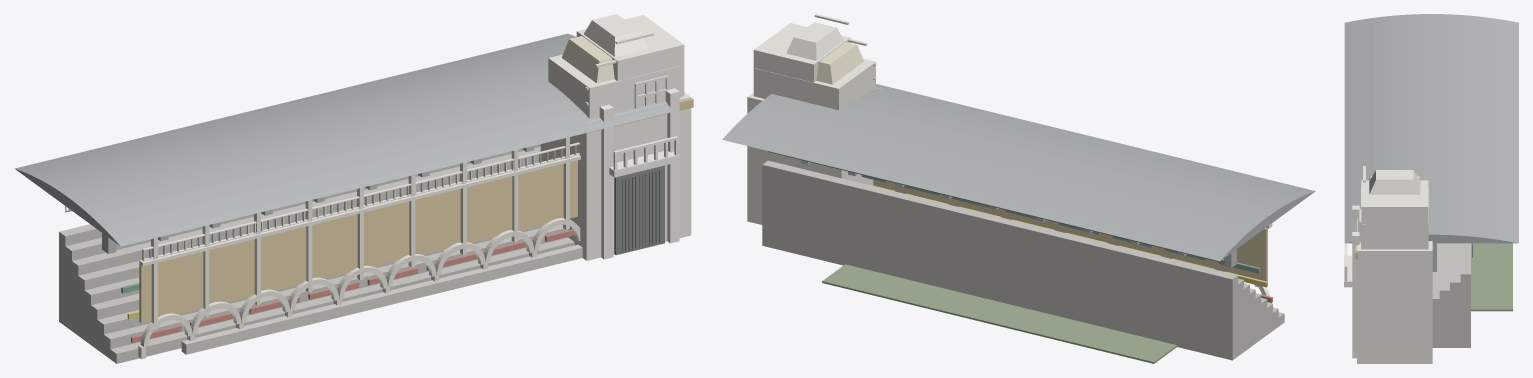
The model's file is estadio-romelio-martinez.glb.
The picture shows the model from 3 angles, left to right: view 1: azimuth 30°, elevation 25°; view 2: azimuth 150°, elevation 25°; view 3: azimuth 270°, elevation 25°; orthographic projection. The views are drawn at different scales.
Visible parts, largest first — view 1: edificio · mat-7f8587, edificio · mat-cfb071, edificio · mat-a9a6a0, edificio · mat-eee7d6, edificio · mat-eee9db, contexto · mat-b9b5aa, edificio · mat-f4f0e5, edificio · mat-494943, edificio · mat-a64f48, edificio · mat-394648, edificio · mat-ddd0ab, edificio · mat-8d9292; view 2: edificio · mat-7f8587, edificio · mat-a9a6a0, edificio · mat-eee9db, contexto · mat-5f7350, edificio · mat-cfb071, edificio · mat-ddd0ab, edificio · mat-477163, edificio · mat-394648, edificio · mat-cfaa45, edificio · mat-8d9292; view 3: edificio · mat-7f8587, edificio · mat-eee9db, edificio · mat-a9a6a0, contexto · mat-5f7350, edificio · mat-f4f0e5.
Part boxes in pixels (x1,y1,x2,y2): edificio · mat-7f8587: (15, 33, 673, 246); edificio · mat-cfb071: (139, 160, 577, 323); edificio · mat-a9a6a0: (59, 144, 574, 363); edificio · mat-eee7d6: (138, 32, 653, 359); edificio · mat-eee9db: (540, 14, 691, 260); contexto · mat-b9b5aa: (181, 244, 582, 354); edificio · mat-f4f0e5: (599, 88, 679, 259); edificio · mat-494943: (614, 165, 664, 255); edificio · mat-a64f48: (131, 229, 575, 343); edificio · mat-394648: (65, 170, 660, 251); edificio · mat-ddd0ab: (561, 36, 614, 83); edificio · mat-8d9292: (102, 146, 534, 253); edificio · mat-7f8587: (722, 84, 1315, 261); edificio · mat-a9a6a0: (762, 160, 1284, 360); edificio · mat-eee9db: (747, 22, 882, 224); contexto · mat-5f7350: (822, 264, 1177, 363); edificio · mat-cfb071: (873, 179, 1267, 281); edificio · mat-ddd0ab: (816, 42, 863, 84); edificio · mat-477163: (861, 175, 1260, 273); edificio · mat-394648: (768, 151, 1225, 263); edificio · mat-cfaa45: (869, 184, 1267, 287); edificio · mat-8d9292: (801, 160, 1236, 267); edificio · mat-7f8587: (1344, 14, 1518, 243); edificio · mat-eee9db: (1357, 170, 1432, 363); edificio · mat-a9a6a0: (1432, 243, 1470, 347); contexto · mat-5f7350: (1471, 243, 1512, 311); edificio · mat-f4f0e5: (1344, 205, 1359, 358).
Bounding box in the file's own units: 37.67 × 12.91 × 12.05.
